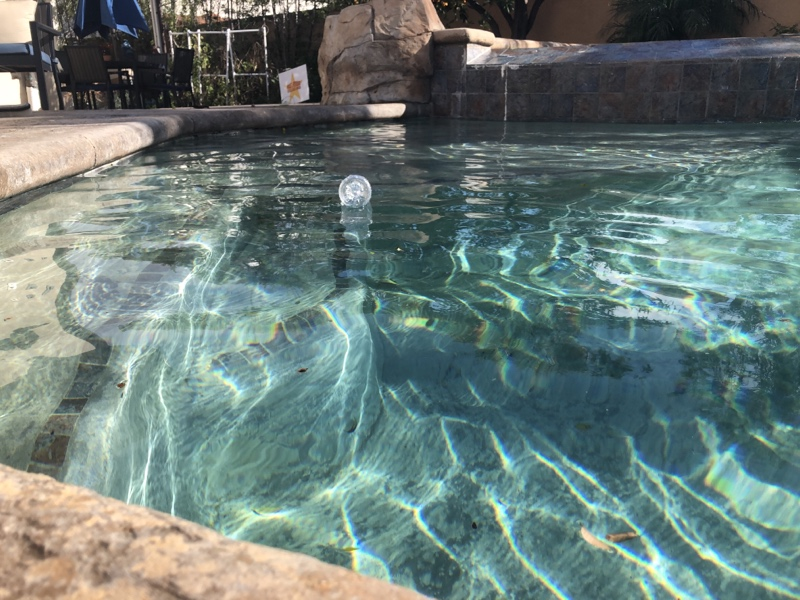Plastic Bottle: (336, 173, 374, 210)
